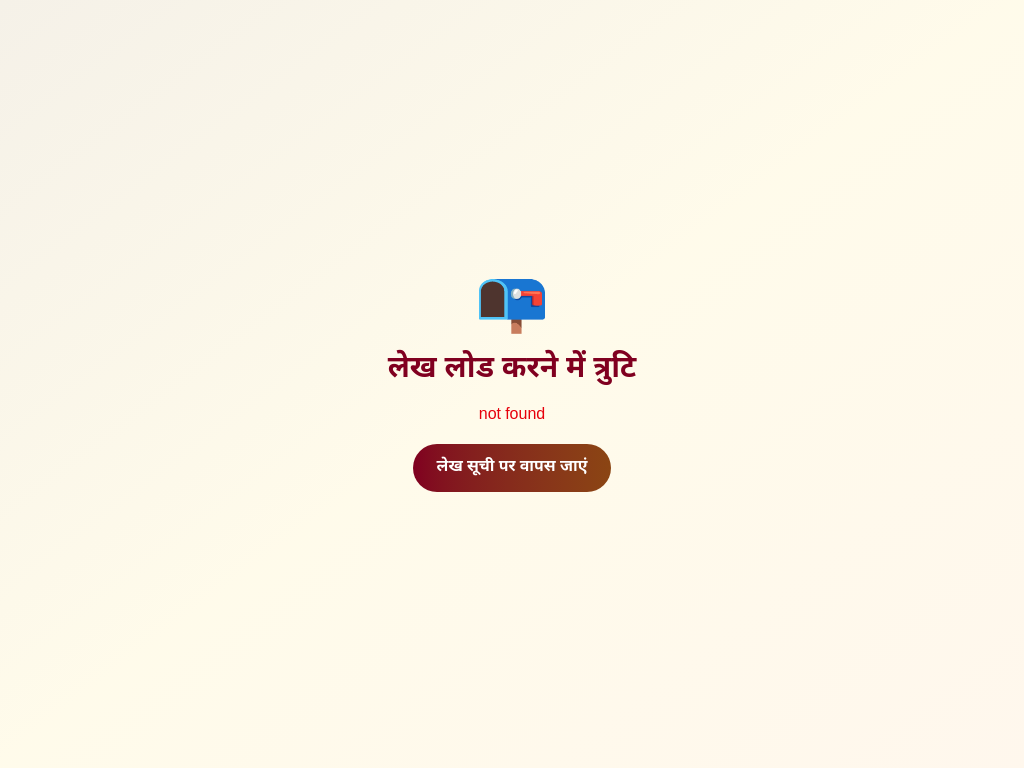
ArticleDetail page › shows an error and a way back when the article cannot be loaded
Expected: the heading "लेख लोड करने में त्रुटि" is shown, top-left (388, 352), bottom-right (636, 388)
Click the button "लेख सूची पर वापस जाएं". click: (512, 468)
box: top-left (413, 444), bottom-right (611, 492)
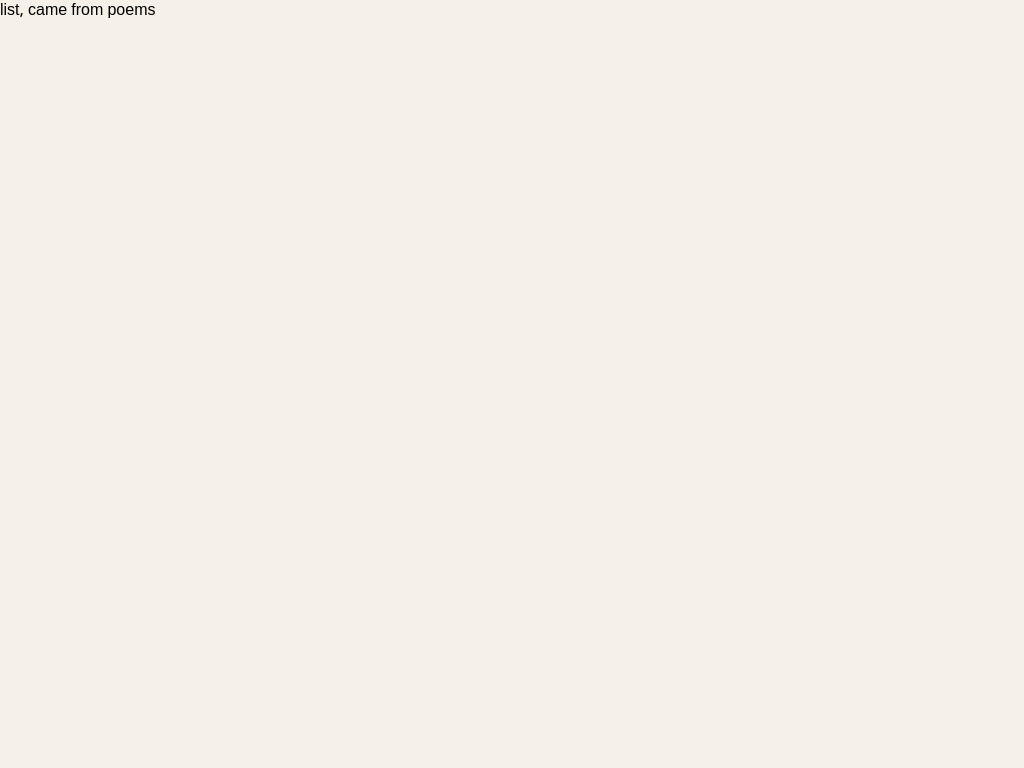
Expected: the text "list, came from poems" is shown, top-left (0, 1), bottom-right (156, 22)
